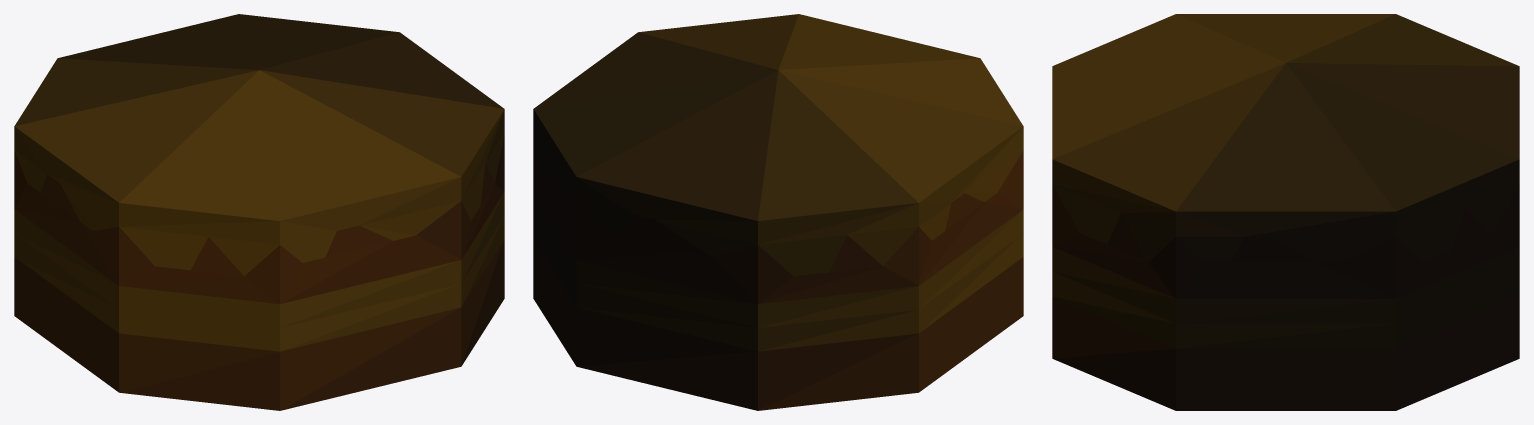
The model's file is chocolate-cake.obj.
The picture shows the model from 3 angles, left to right: view 1: azimuth 30°, elevation 25°; view 2: azimuth 150°, elevation 25°; view 3: azimuth 270°, elevation 25°; orthographic projection. The views are drawn at different scales.
Parts seen in each view (by area): view 1: Item Chocolate cake 2026-09-13_16-41-47; view 2: Item Chocolate cake 2026-09-13_16-41-47; view 3: Item Chocolate cake 2026-09-13_16-41-47.
Boxes of the visible parts, box(x1,y1,x2,y2) form: Item Chocolate cake 2026-09-13_16-41-47: box(14, 14, 504, 410); Item Chocolate cake 2026-09-13_16-41-47: box(533, 14, 1023, 410); Item Chocolate cake 2026-09-13_16-41-47: box(1052, 14, 1519, 410).
Size of the model in its own units: 34 by 20 by 34.
